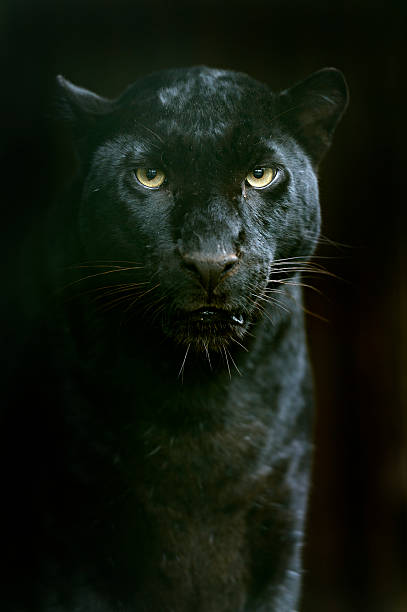panther: (36, 42, 380, 406)
